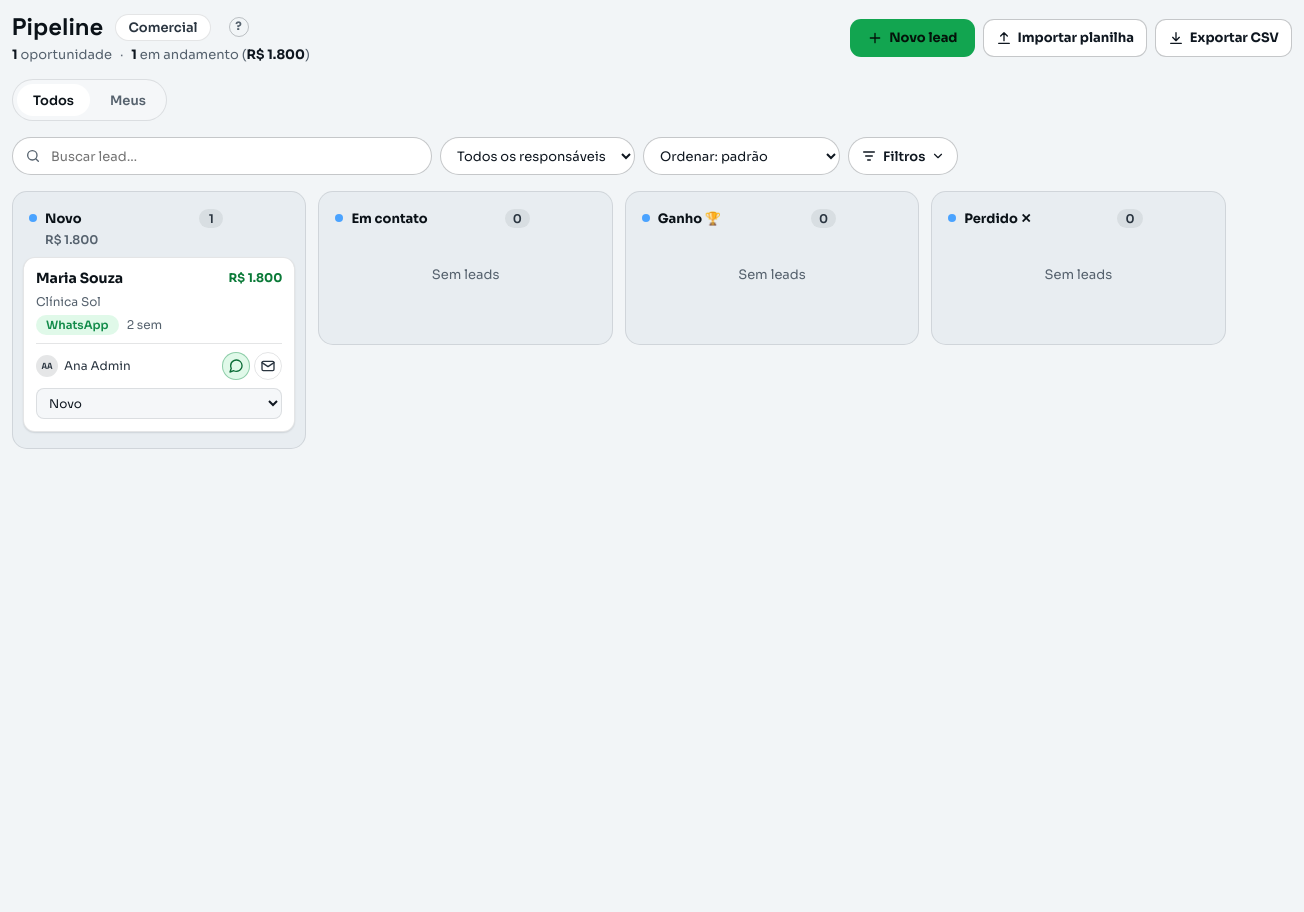
F-02/F-03 mover lead › falha na API: ROLLBACK para a etapa original e toast de erro
The width and height of the screenshot is (1304, 912).
Expected: the text "Maria Souza" is shown, [36,270,123,288]
Select "Em contato" in the dropdown named "Mover Maria Souza para outra etapa" at (159, 403), box [36,388,282,418]
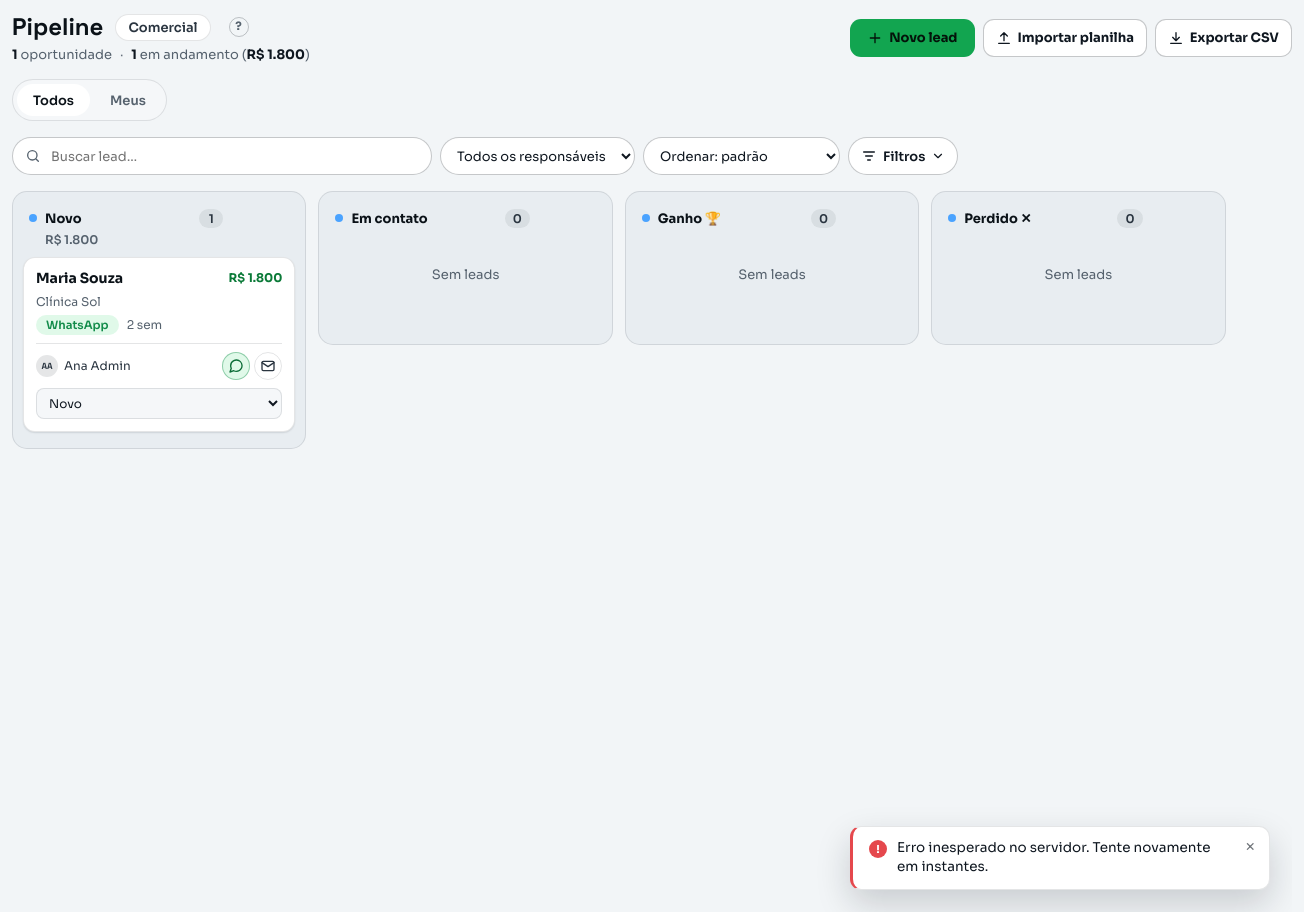
Expected: the text titled "Total real nesta etapa" next to "Em contato" reads "1", [209,210,214,226]
Expected: the text "Erro inesperado no servidor. Tente novamente em instantes." is shown, [897,839,1234,877]
